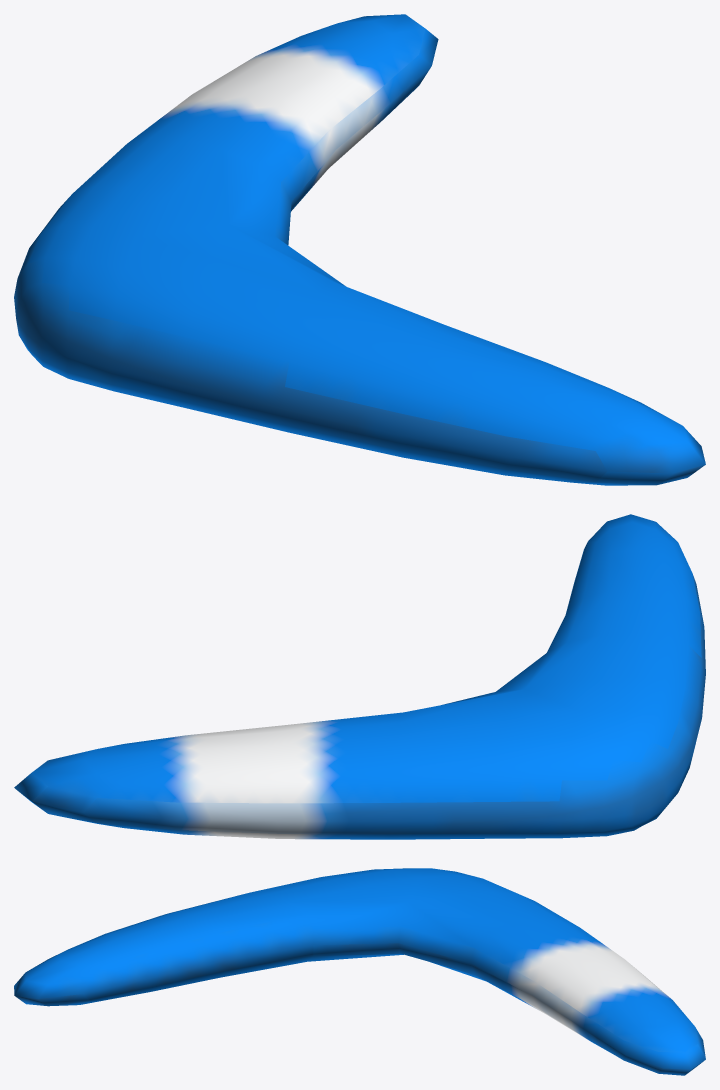
The model's file is boomerang.glb.
3 views of the same model, one above another, from view 1: azimuth 30°, elevation 25°; view 2: azimuth 150°, elevation 25°; view 3: azimuth 270°, elevation 25° (orthographic). The views are drawn at different scales.
Parts seen in each view (by area): view 1: node_id32_4; view 2: node_id32_4; view 3: node_id32_4.
Boxes of the visible parts, <box> form: node_id32_4: <box>14,14,705,485</box>; node_id32_4: <box>14,514,705,839</box>; node_id32_4: <box>14,868,705,1075</box>.
Size of the model in its own units: 0.364 by 0.0674 by 0.5727.
1 material, 1 textured.
